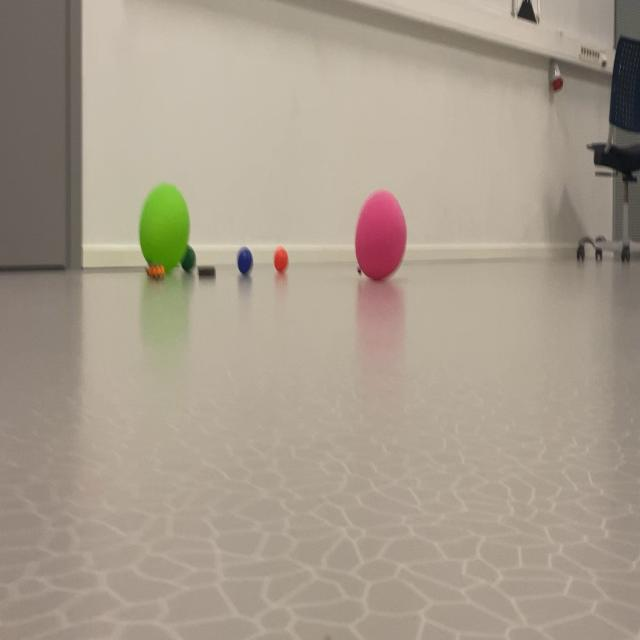7: (266, 230, 292, 295)
green ball: (225, 240, 258, 300)
red ball: (180, 241, 198, 276)
